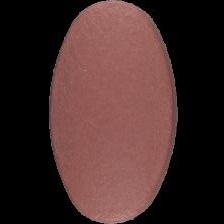54868-0117: (0, 0, 224, 224)
